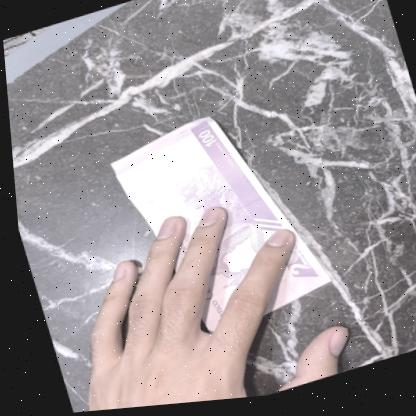one_hundred-back-vef: (99, 96, 333, 353)
